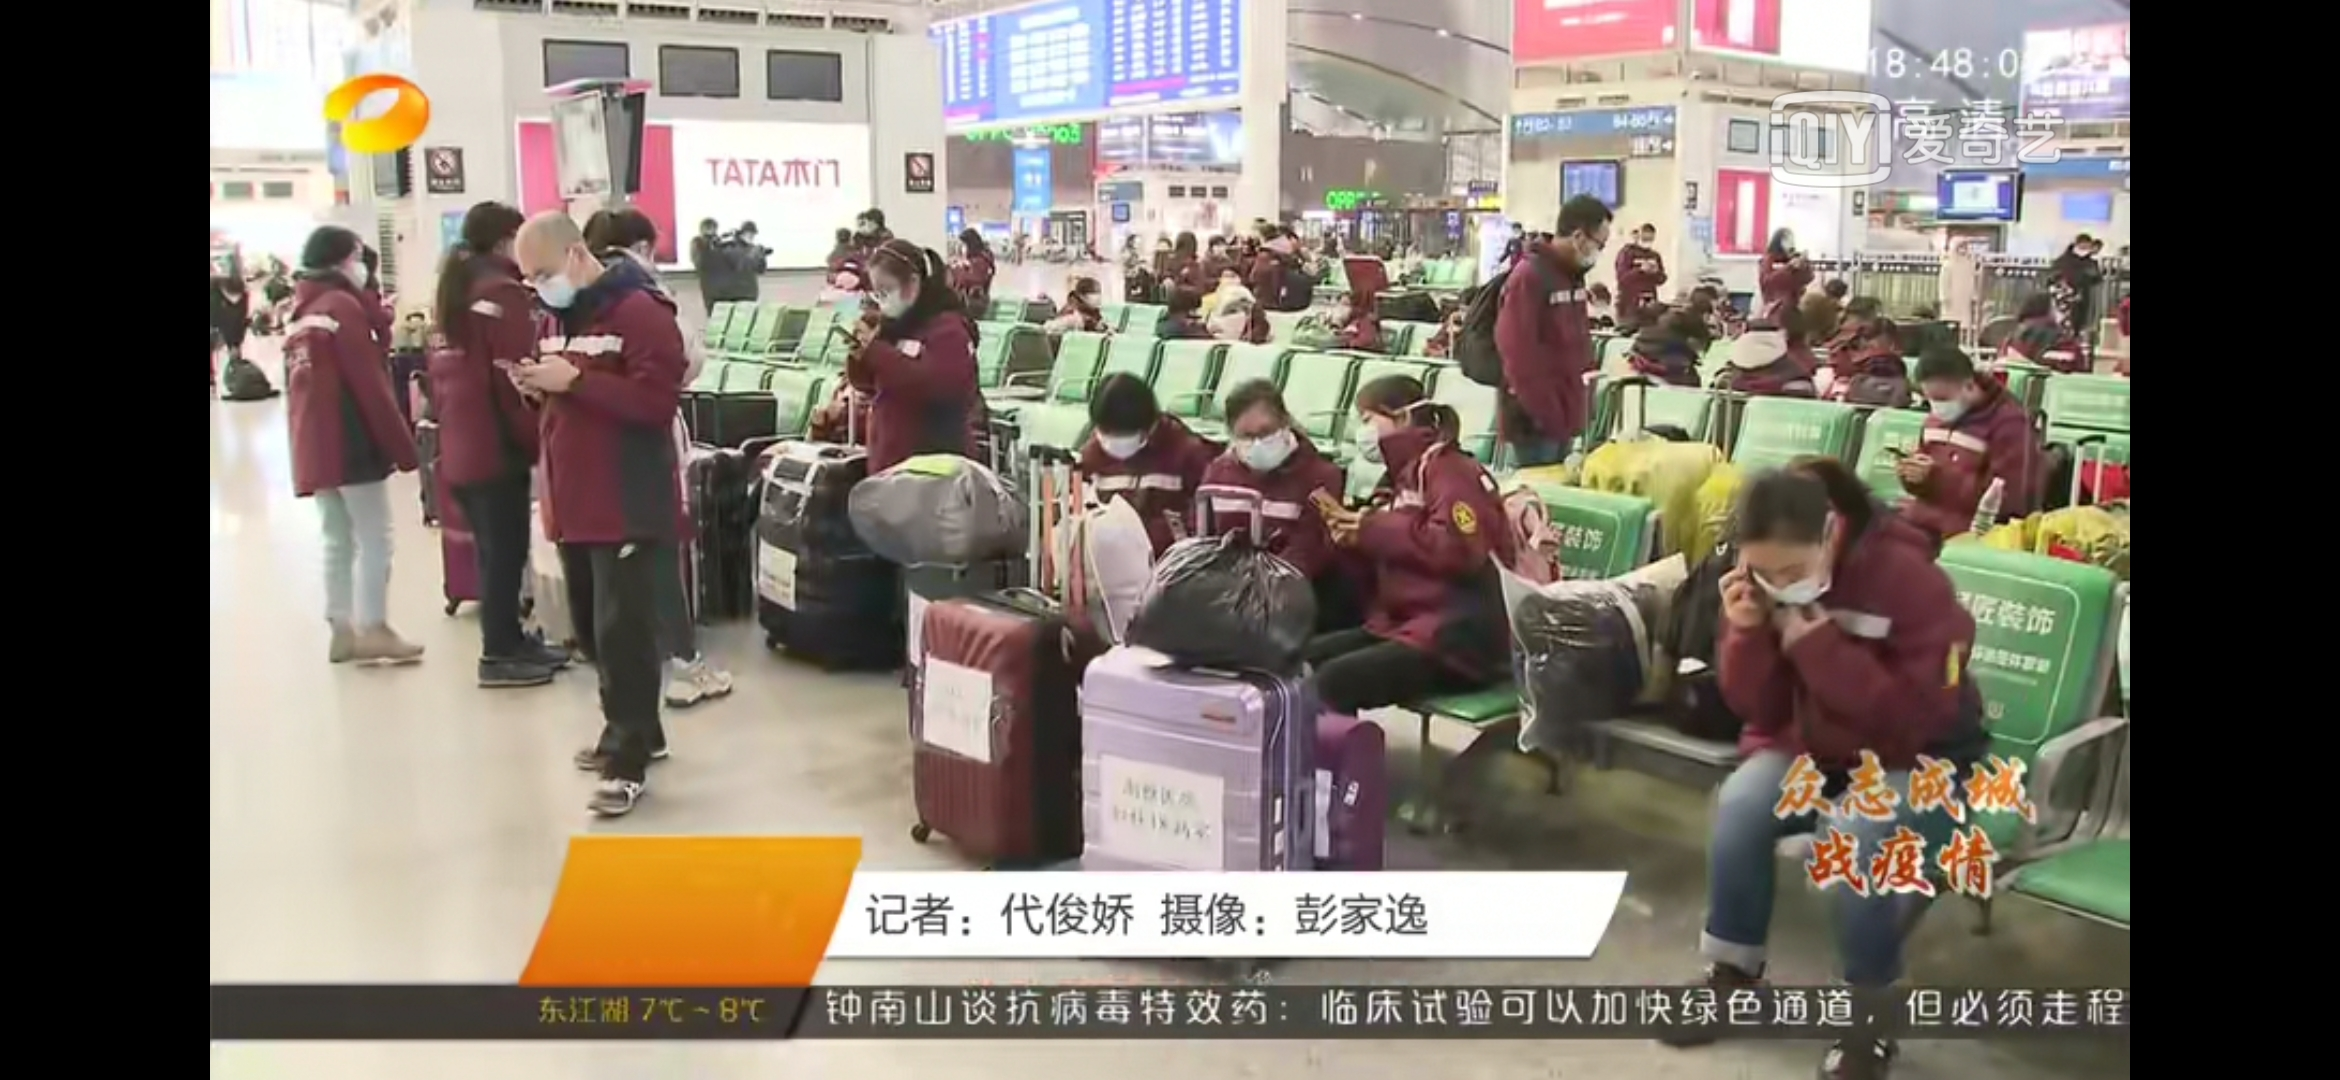correctlyWear: (1751, 515, 1842, 615), (522, 242, 595, 315), (1227, 415, 1301, 474), (1925, 374, 1986, 431), (1354, 406, 1404, 468), (872, 269, 922, 324), (1095, 425, 1158, 462), (1567, 222, 1609, 274), (337, 240, 367, 292)
